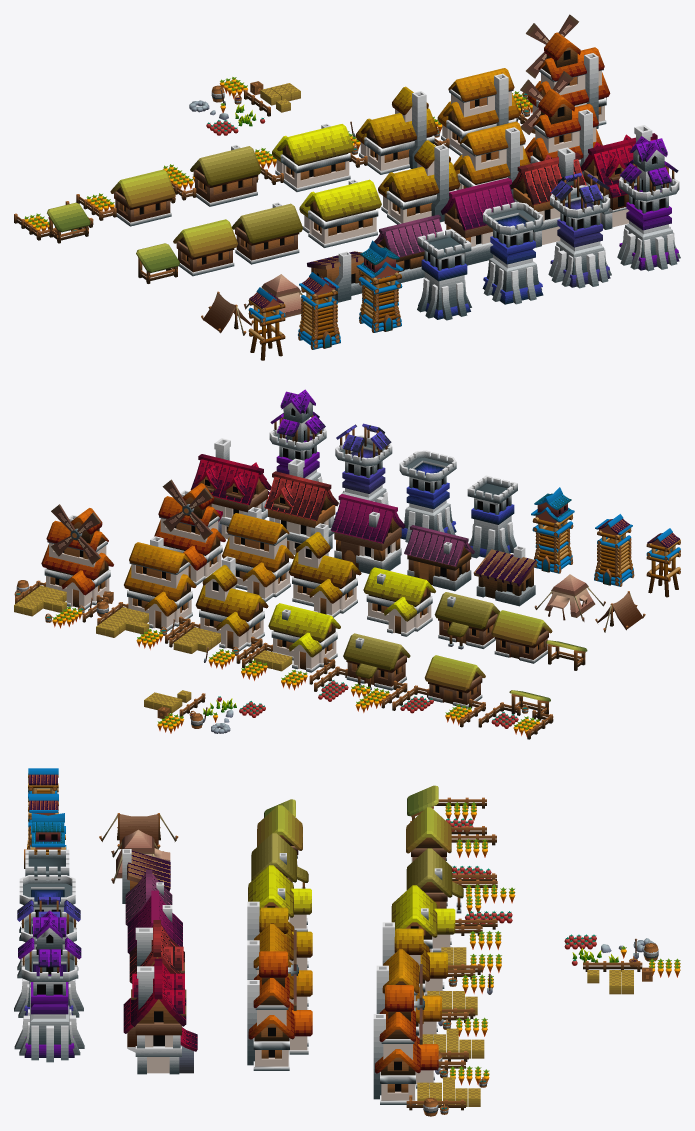
File: village farm.gltf
3 renders of one model, top to bottom at view 1: azimuth 30°, elevation 25°; view 2: azimuth 150°, elevation 25°; view 3: azimuth 270°, elevation 25°, orthographic. The views are drawn at different scales.
Visible parts, largest first — view 1: tower_lvl7, tower_lvl6, farm_lvl7, tower_lvl5, farm_lvl5, farm_lvl4, farm_lvl6, farm_house_lvl7, farm_house_lvl5, farm_house_lvl4, tower_lvl4, farm_lvl3 (+17 smaller); view 2: farm_lvl7, farm_lvl6, farm_lvl5, farm_lvl4, farm_house_lvl7, farm_house_lvl6, house_lvl5, farm_lvl3, farm_house_lvl5, house_lvl6, house_lvl7, tower_lvl5 (+17 smaller); view 3: farm_lvl7, tower_lvl7, house_lvl7, farm_house_lvl7, farm_lvl6, farm_lvl4, farm_lvl5, farm_lvl3, farm_lvl2, farm_house_lvl4, tower_lvl6, house_lvl6 (+16 smaller).
Part boxes in pixels (x1,y1,x2,y2): tower_lvl7: (617, 136, 680, 271); tower_lvl6: (548, 172, 611, 288); farm_lvl7: (512, 14, 610, 133); tower_lvl5: (482, 202, 543, 304); farm_lvl5: (348, 86, 437, 174); farm_lvl4: (255, 123, 354, 191); farm_lvl6: (433, 68, 519, 155); farm_house_lvl7: (520, 71, 602, 176); farm_house_lvl5: (378, 140, 460, 224); farm_house_lvl4: (299, 179, 381, 247); tower_lvl4: (417, 229, 471, 320); farm_lvl3: (163, 145, 261, 206); farm_lvl7: (14, 504, 113, 628); farm_lvl6: (96, 536, 196, 649); farm_lvl5: (169, 556, 268, 669); farm_lvl4: (241, 603, 340, 690); farm_house_lvl7: (154, 479, 225, 585); farm_house_lvl6: (222, 507, 294, 602); house_lvl5: (331, 494, 405, 573); farm_lvl3: (314, 633, 410, 712); farm_house_lvl5: (289, 523, 361, 617); house_lvl6: (264, 458, 338, 554); house_lvl7: (190, 438, 271, 539); tower_lvl5: (399, 450, 456, 542); farm_lvl7: (373, 964, 489, 1116); tower_lvl7: (14, 910, 84, 1062); house_lvl7: (123, 958, 197, 1074); farm_house_lvl7: (247, 930, 312, 1070); farm_lvl6: (376, 949, 487, 1061); farm_lvl4: (391, 885, 501, 974); farm_lvl5: (382, 922, 493, 1018); farm_lvl3: (406, 848, 515, 929); farm_lvl2: (406, 807, 496, 884); farm_house_lvl4: (248, 865, 311, 931); tower_lvl6: (14, 897, 83, 1017); house_lvl6: (129, 920, 184, 983).
Bounding box in the file's own units: 4.81 × 0.9678 × 4.37.
Materials: 3 (3 with a texture image).
